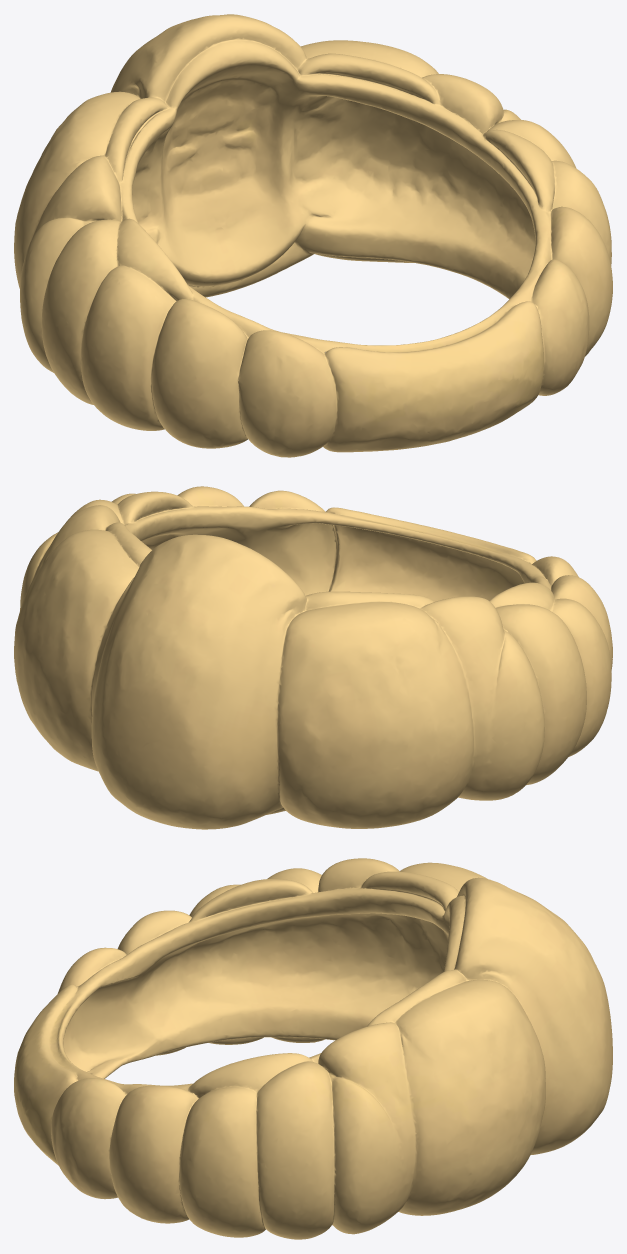
The model's file is puffyring.glb.
3 views of the same model, one above another, from view 1: azimuth 30°, elevation 25°; view 2: azimuth 150°, elevation 25°; view 3: azimuth 270°, elevation 25° (orthographic). The views are drawn at different scales.
Parts seen in each view (by area): view 1: geometry_0; view 2: geometry_0; view 3: geometry_0.
Part boxes in pixels (bbox=[...]): geometry_0: bbox=[14, 14, 612, 457]; geometry_0: bbox=[14, 486, 612, 829]; geometry_0: bbox=[14, 858, 612, 1239].
Size of the model in its own units: 0.9657 by 0.4799 by 0.9964.
1 material, 1 textured.
